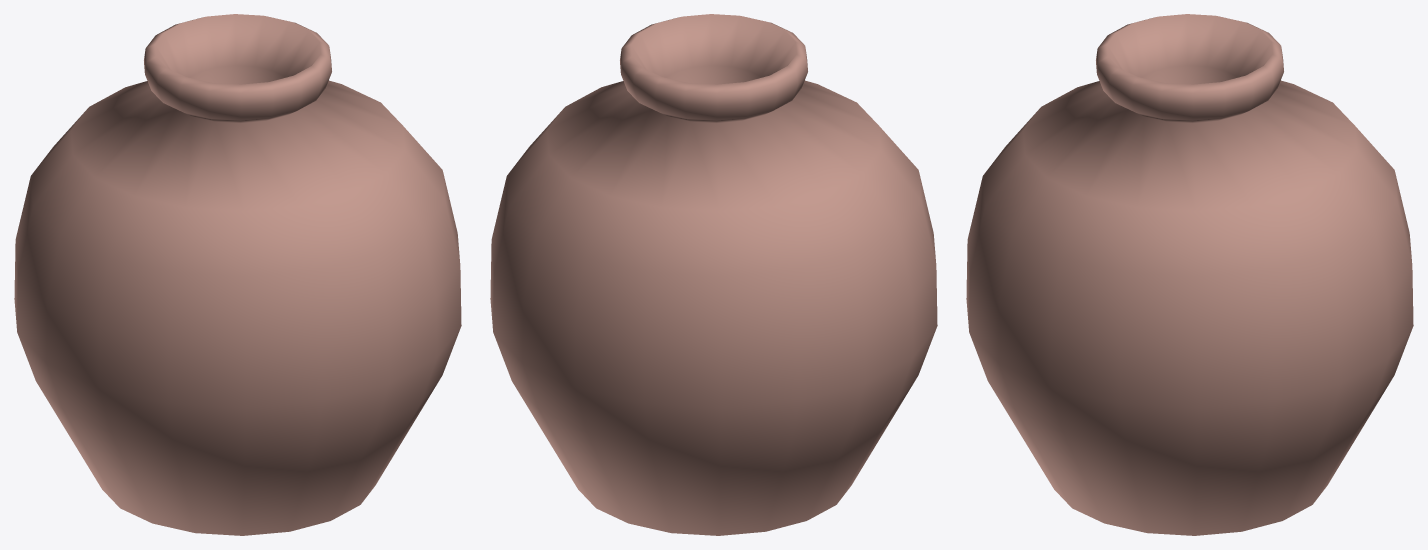
File: Vase02.glb
3 renders of one model, left to right at view 1: azimuth 30°, elevation 25°; view 2: azimuth 150°, elevation 25°; view 3: azimuth 270°, elevation 25°, orthographic.
Parts seen in each view (by area): view 1: Vase02.002; view 2: Vase02.002; view 3: Vase02.002.
Part boxes in pixels (bbox=[...]): Vase02.002: bbox=[14, 14, 461, 535]; Vase02.002: bbox=[490, 14, 937, 535]; Vase02.002: bbox=[966, 14, 1413, 535].
Size of what is drawn, in the model's own units: 0.647 by 0.6772 by 0.641.
